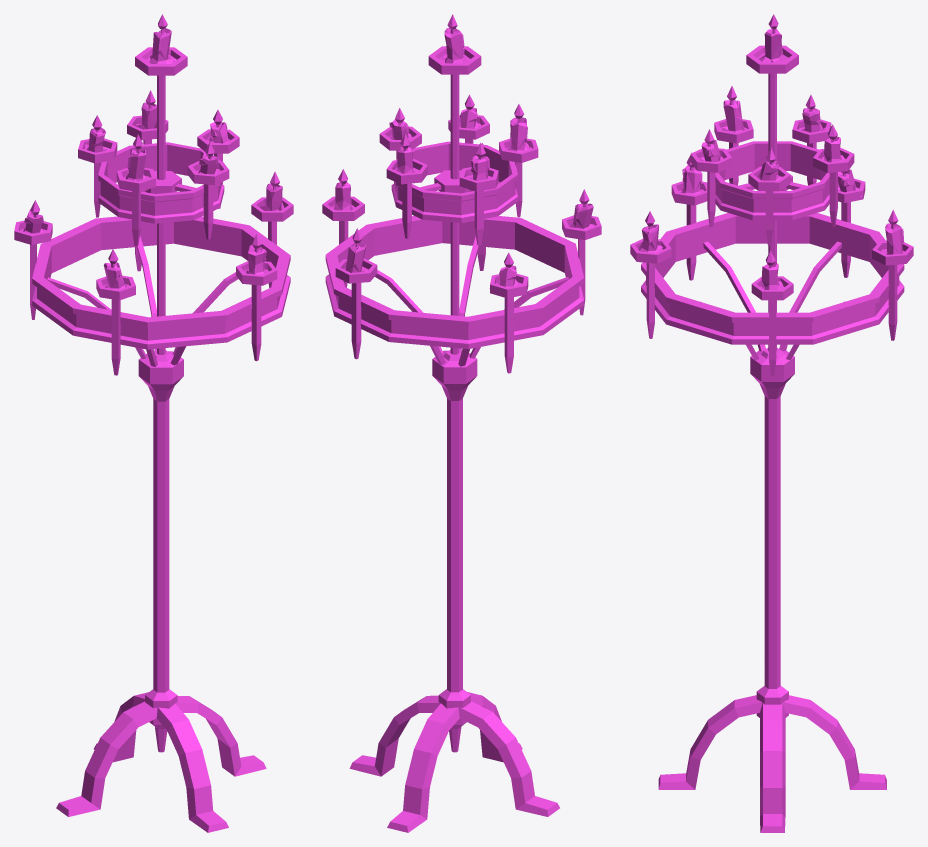
File: SM_Candelabrum_Floor_A_Lit_Fantasy.fbx
The picture shows the model from 3 angles, left to right: view 1: azimuth 30°, elevation 25°; view 2: azimuth 150°, elevation 25°; view 3: azimuth 270°, elevation 25°; orthographic projection.
Visible parts, largest first — view 1: SM_Candelabrum_Floor_A_Lit_Fantasy; view 2: SM_Candelabrum_Floor_A_Lit_Fantasy; view 3: SM_Candelabrum_Floor_A_Lit_Fantasy.
Part boxes in pixels (x1,y1,x2,y2): SM_Candelabrum_Floor_A_Lit_Fantasy: (14, 14, 293, 832); SM_Candelabrum_Floor_A_Lit_Fantasy: (322, 14, 601, 832); SM_Candelabrum_Floor_A_Lit_Fantasy: (630, 14, 913, 832).
Size of the model in its own units: 0.8593 by 2.69 by 0.8951.
